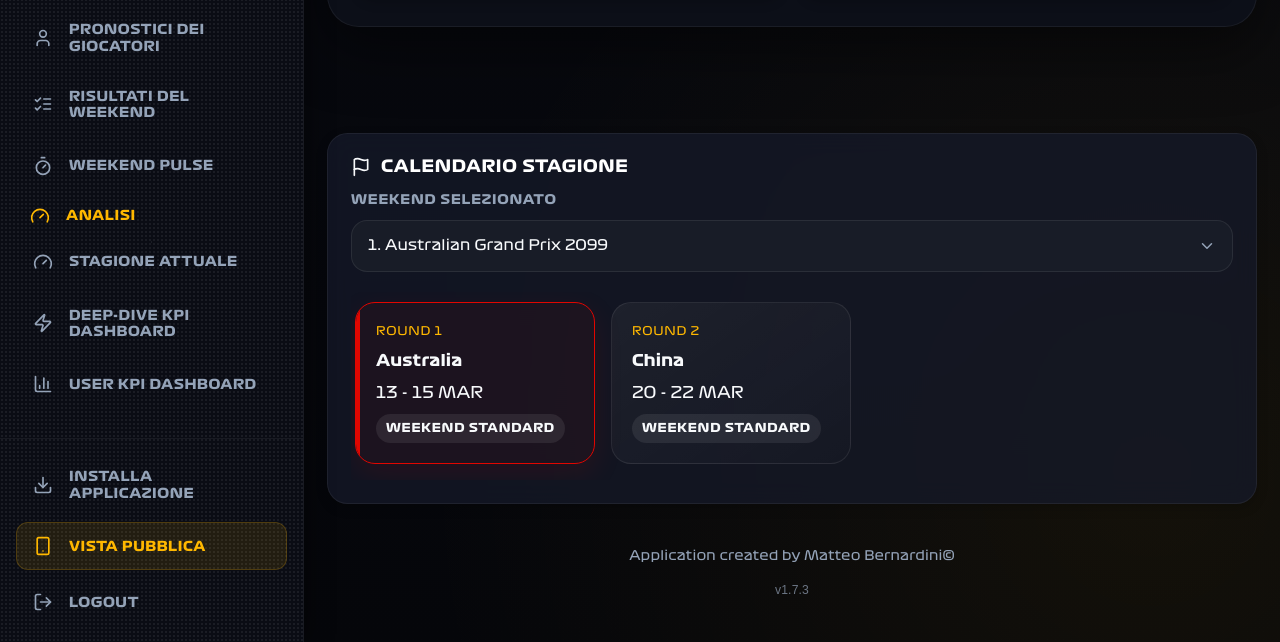
Live projection UI › keeps the user inside calendario stagione when selecting another race from the calendar
(page scrolled)
Click the button "Round 2 China 20 - 22 MAR Weekend Standard".
click(731, 383)  # box left=611, top=302, right=851, bottom=464
(page scrolled)
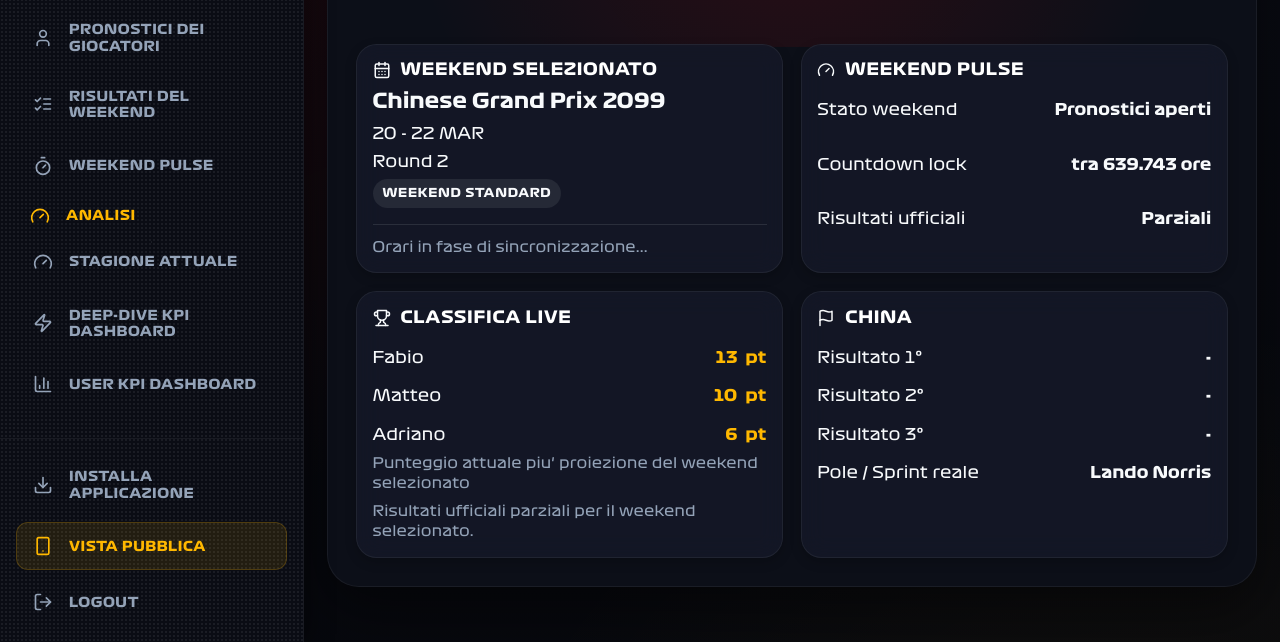
Now the text "China" is shown, box left=845, top=308, right=912, bottom=328
